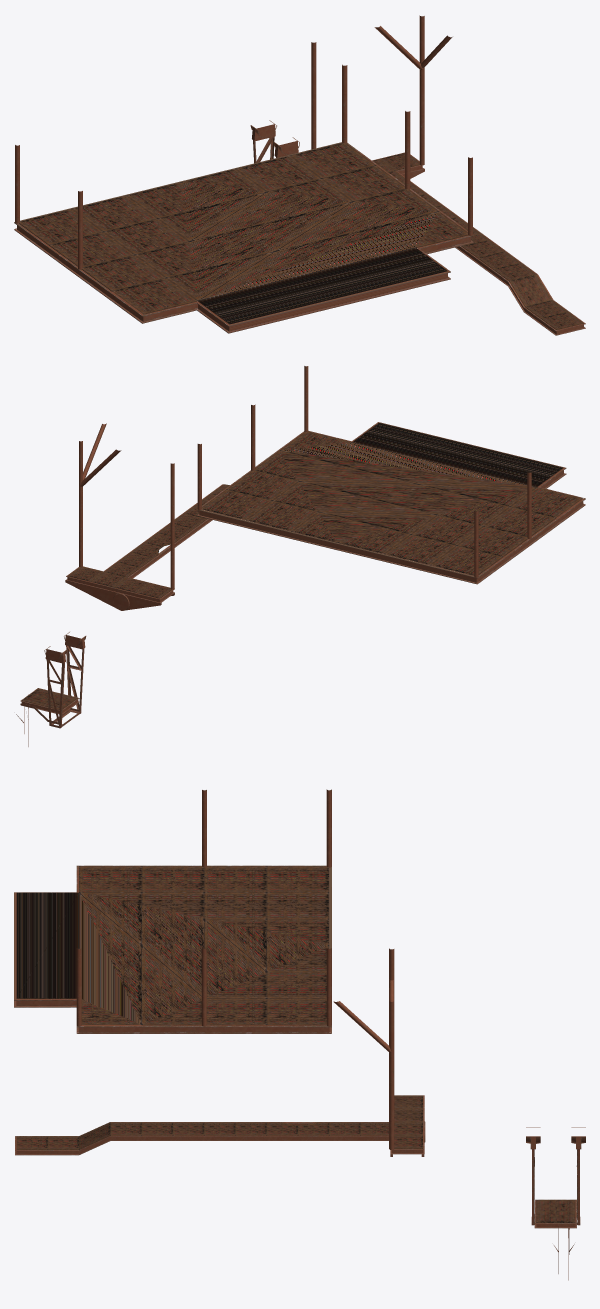
The model's file is level1.glb.
3 views of the same model, one above another, from view 1: azimuth 30°, elevation 25°; view 2: azimuth 150°, elevation 25°; view 3: azimuth 270°, elevation 25° (orthographic). The views are drawn at different scales.
Parts seen in each view (by area): view 1: level1_LOD0; view 2: level1_LOD0; view 3: level1_LOD0.
Boxes of the visible parts, bbox=[...] form: level1_LOD0: bbox=[14, 15, 585, 335]; level1_LOD0: bbox=[16, 366, 585, 746]; level1_LOD0: bbox=[14, 789, 585, 1280].
Size of the model in its own units: 24.25 by 16.14 by 27.44.
Materials: 2 (2 with a texture image).
